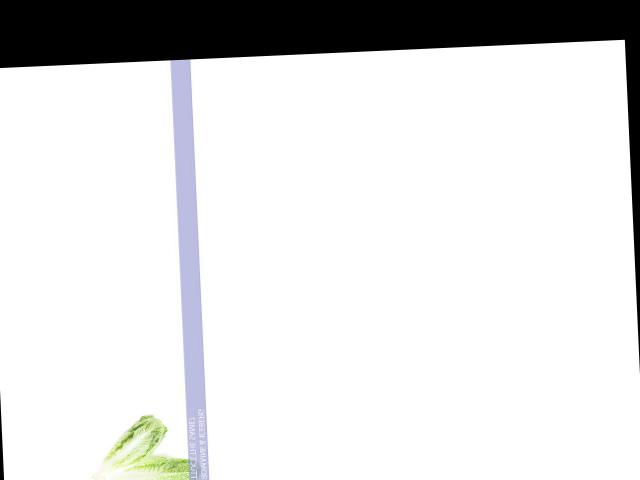lettuce: (89, 415, 176, 480)
